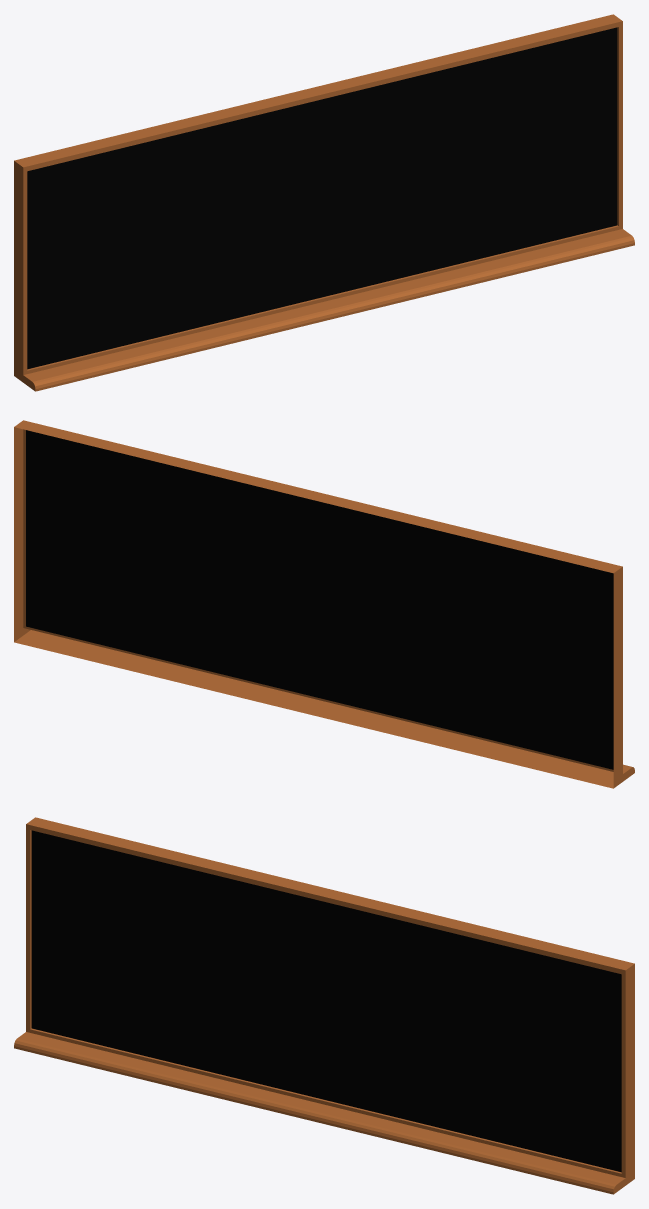
Rendered from BlackBoard.fbx.
3 renders of one model, top to bottom at view 1: azimuth 30°, elevation 25°; view 2: azimuth 150°, elevation 25°; view 3: azimuth 330°, elevation 25°, orthographic.
Visible parts, largest first — view 1: BLack Board; view 2: BLack Board; view 3: BLack Board.
Boxes of the visible parts, left/top/right/bottom form: BLack Board: left=14, top=14, right=634, bottom=391; BLack Board: left=14, top=420, right=634, bottom=788; BLack Board: left=14, top=817, right=634, bottom=1194.
Size of the model in its own units: 600 by 206 by 37.19.
